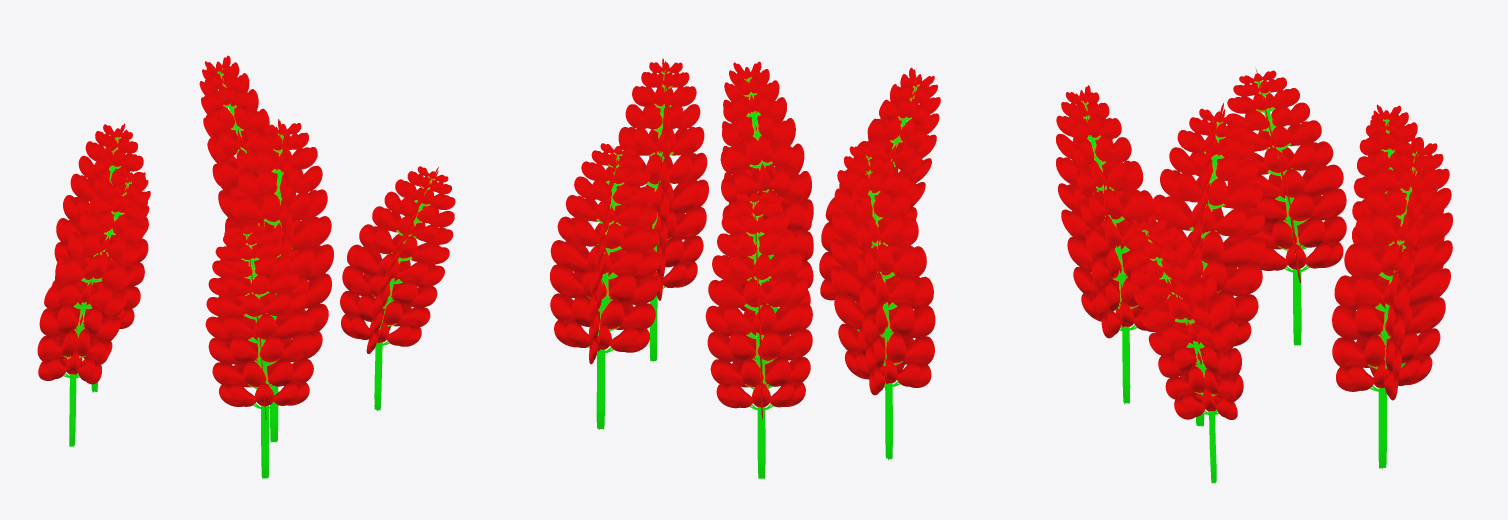
The model's file is Flowers01.fbx.
The picture shows the model from 3 angles, left to right: view 1: azimuth 30°, elevation 25°; view 2: azimuth 150°, elevation 25°; view 3: azimuth 270°, elevation 25°; orthographic projection. The views are drawn at different scales.
Parts seen in each view (by area): view 1: Flowers01_LOD0; view 2: Flowers01_LOD0; view 3: Flowers01_LOD0.
Part boxes in pixels (x1=…): Flowers01_LOD0: x1=37, y1=55, x2=455, y2=478; Flowers01_LOD0: x1=550, y1=58, x2=940, y2=478; Flowers01_LOD0: x1=1056, y1=69, x2=1452, y2=483.
Size of what is drawn, in the model's own units: 57.86 by 46.54 by 57.13.
